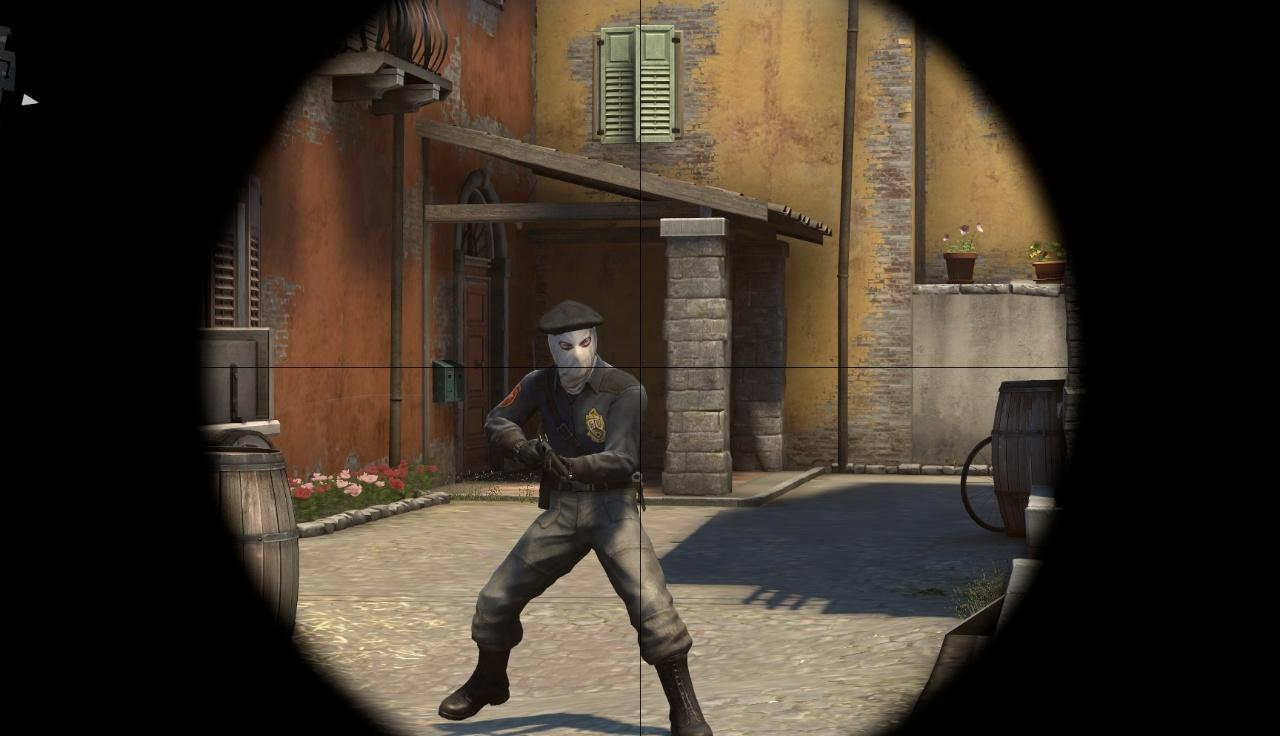tt: (440, 299, 700, 736)
tthead: (535, 299, 606, 386)
